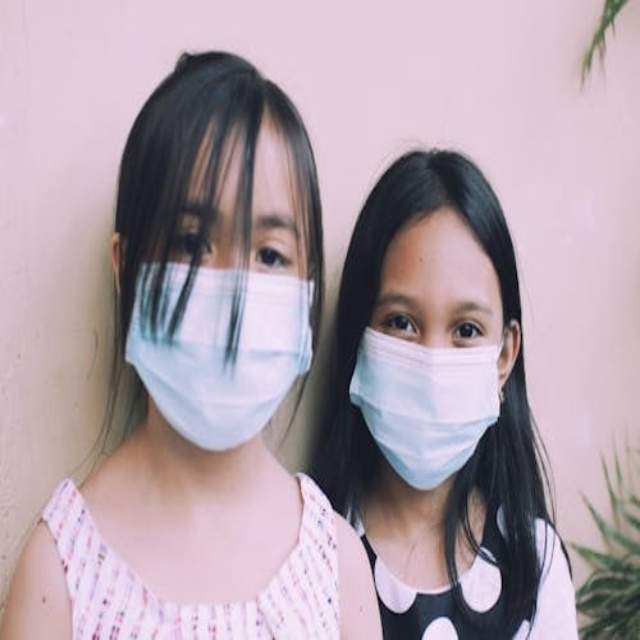Mascara: (125, 257, 316, 450), (349, 323, 505, 488)
Sin_gafas: (168, 194, 291, 277), (376, 279, 493, 356)
